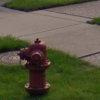Hydrant: (13, 31, 65, 93)
